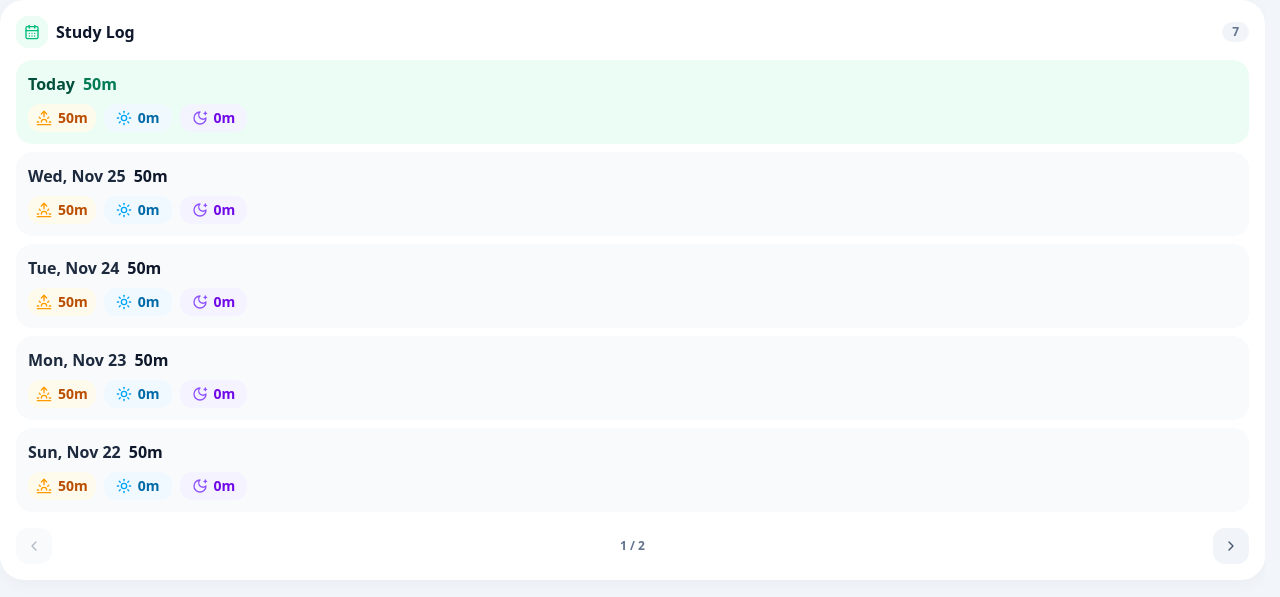
Test: HistoryLog pagination and delete › paginates 7 logged days into 5 items on page 1 and 2 items on page 2
Expected: the number of list items is 5, [16, 60, 1249, 144]; [16, 152, 1249, 236]; [16, 244, 1249, 328]; [16, 336, 1249, 420]; [16, 428, 1249, 512]
Expected: the text "1 / 2" is shown, [620, 538, 645, 554]
Step 1. Click the button named "Next page" → click(1231, 546), box [1213, 528, 1249, 564]
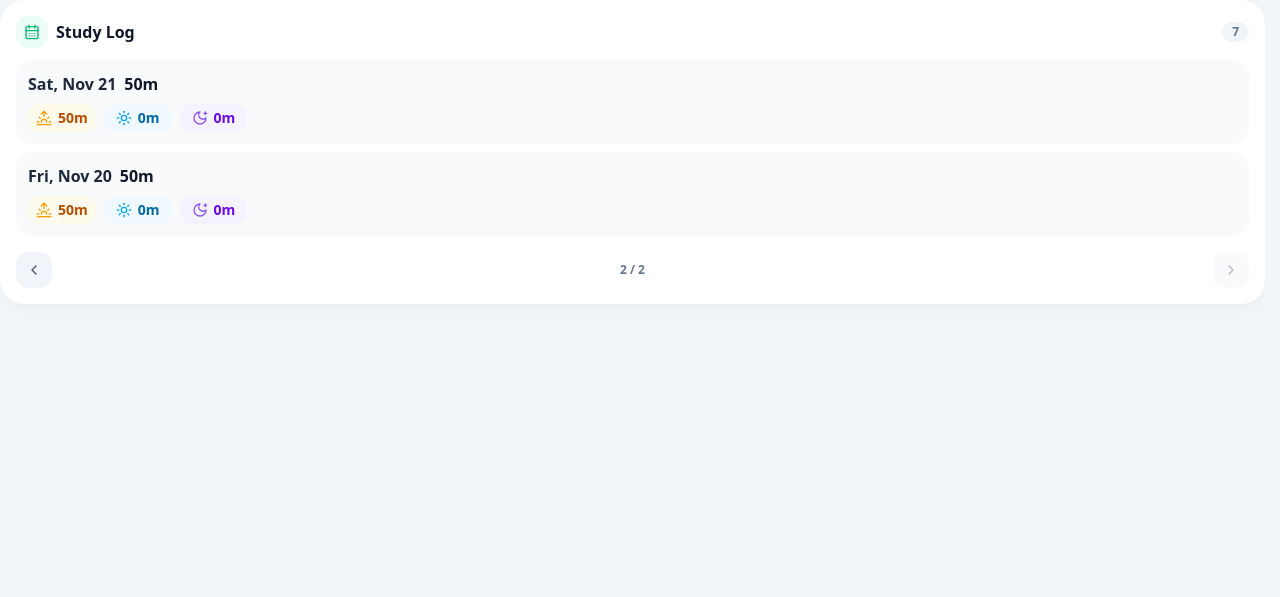
Result: the number of list items is 2 at [16, 60, 1249, 144]; [16, 152, 1249, 236]
Result: the text "2 / 2" is shown at [620, 262, 645, 278]
Result: the button named "Previous page" is enabled
Step 2. Click the button named "Previous page" → click(34, 270), box [16, 252, 52, 288]
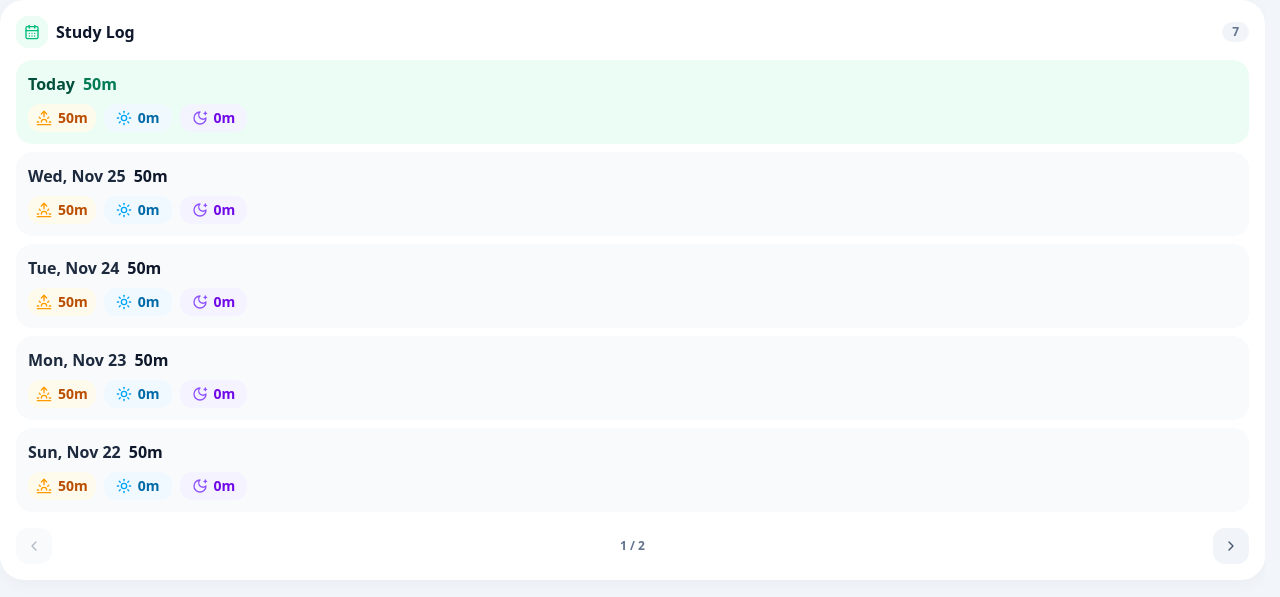
Result: the number of list items is 5 at [16, 60, 1249, 144]; [16, 152, 1249, 236]; [16, 244, 1249, 328]; [16, 336, 1249, 420]; [16, 428, 1249, 512]
Result: the text "1 / 2" is shown at [620, 538, 645, 554]
